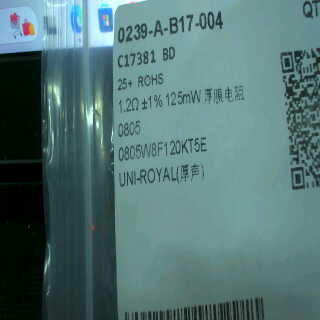1.2R: (113, 95, 145, 145)
